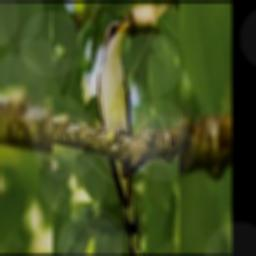Cuckoo: (97, 19, 141, 254)
